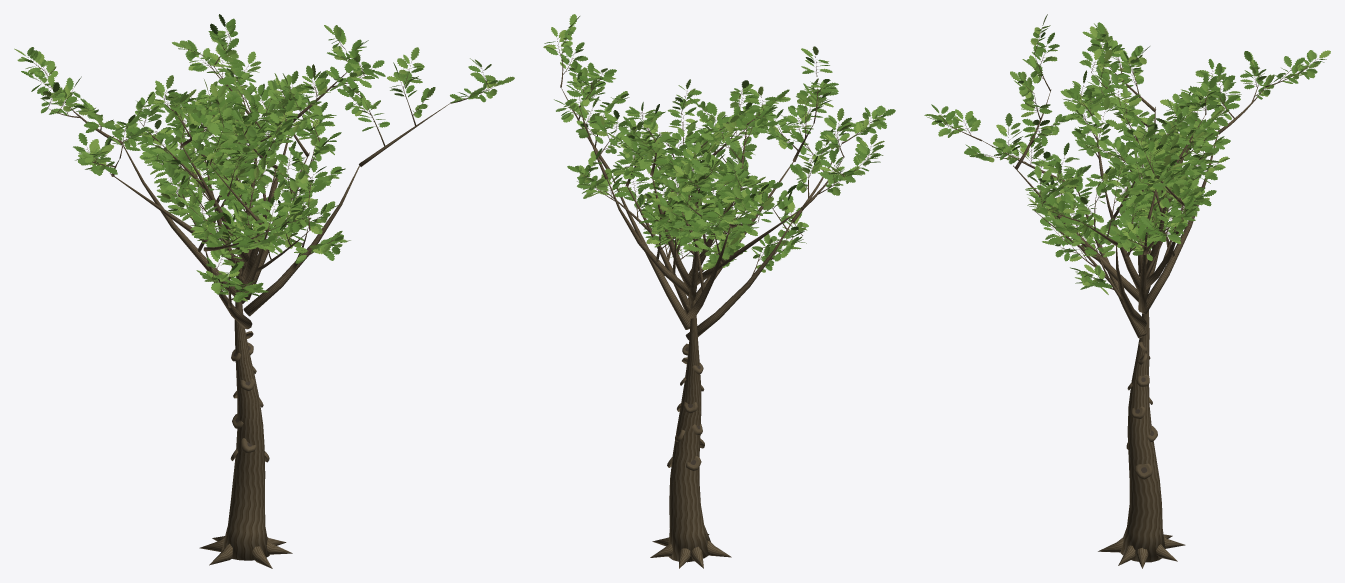
File: Sessile_Oak_Mature_01_HighPruned_Healed_LOD0.fbx
3 renders of one model, left to right at view 1: azimuth 30°, elevation 25°; view 2: azimuth 150°, elevation 25°; view 3: azimuth 270°, elevation 25°, orthographic. The views are drawn at different scales.
Visible parts, largest first — view 1: Sessile_Oak_Mature_01_HighPruned_Healed_LOD0, Sessile_Oak_Mature_01_HighPruned_Healed_LOD0_Scars; view 2: Sessile_Oak_Mature_01_HighPruned_Healed_LOD0, Sessile_Oak_Mature_01_HighPruned_Healed_LOD0_Scars; view 3: Sessile_Oak_Mature_01_HighPruned_Healed_LOD0, Sessile_Oak_Mature_01_HighPruned_Healed_LOD0_Scars.
Boxes of the visible parts, x1,y1,x2,y2 form: Sessile_Oak_Mature_01_HighPruned_Healed_LOD0: (14, 14, 514, 568); Sessile_Oak_Mature_01_HighPruned_Healed_LOD0_Scars: (230, 331, 269, 462); Sessile_Oak_Mature_01_HighPruned_Healed_LOD0: (543, 14, 895, 568); Sessile_Oak_Mature_01_HighPruned_Healed_LOD0_Scars: (667, 343, 704, 470); Sessile_Oak_Mature_01_HighPruned_Healed_LOD0: (924, 14, 1330, 568); Sessile_Oak_Mature_01_HighPruned_Healed_LOD0_Scars: (1126, 341, 1157, 479).
Size of the model in its own units: 1564 by 1999 by 1473.
6 materials, 2 textured.
